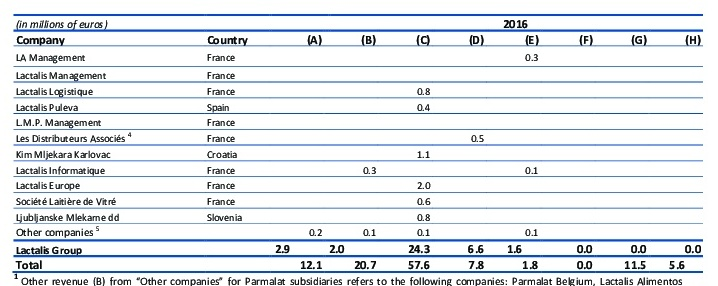table: (0, 0, 718, 286)
